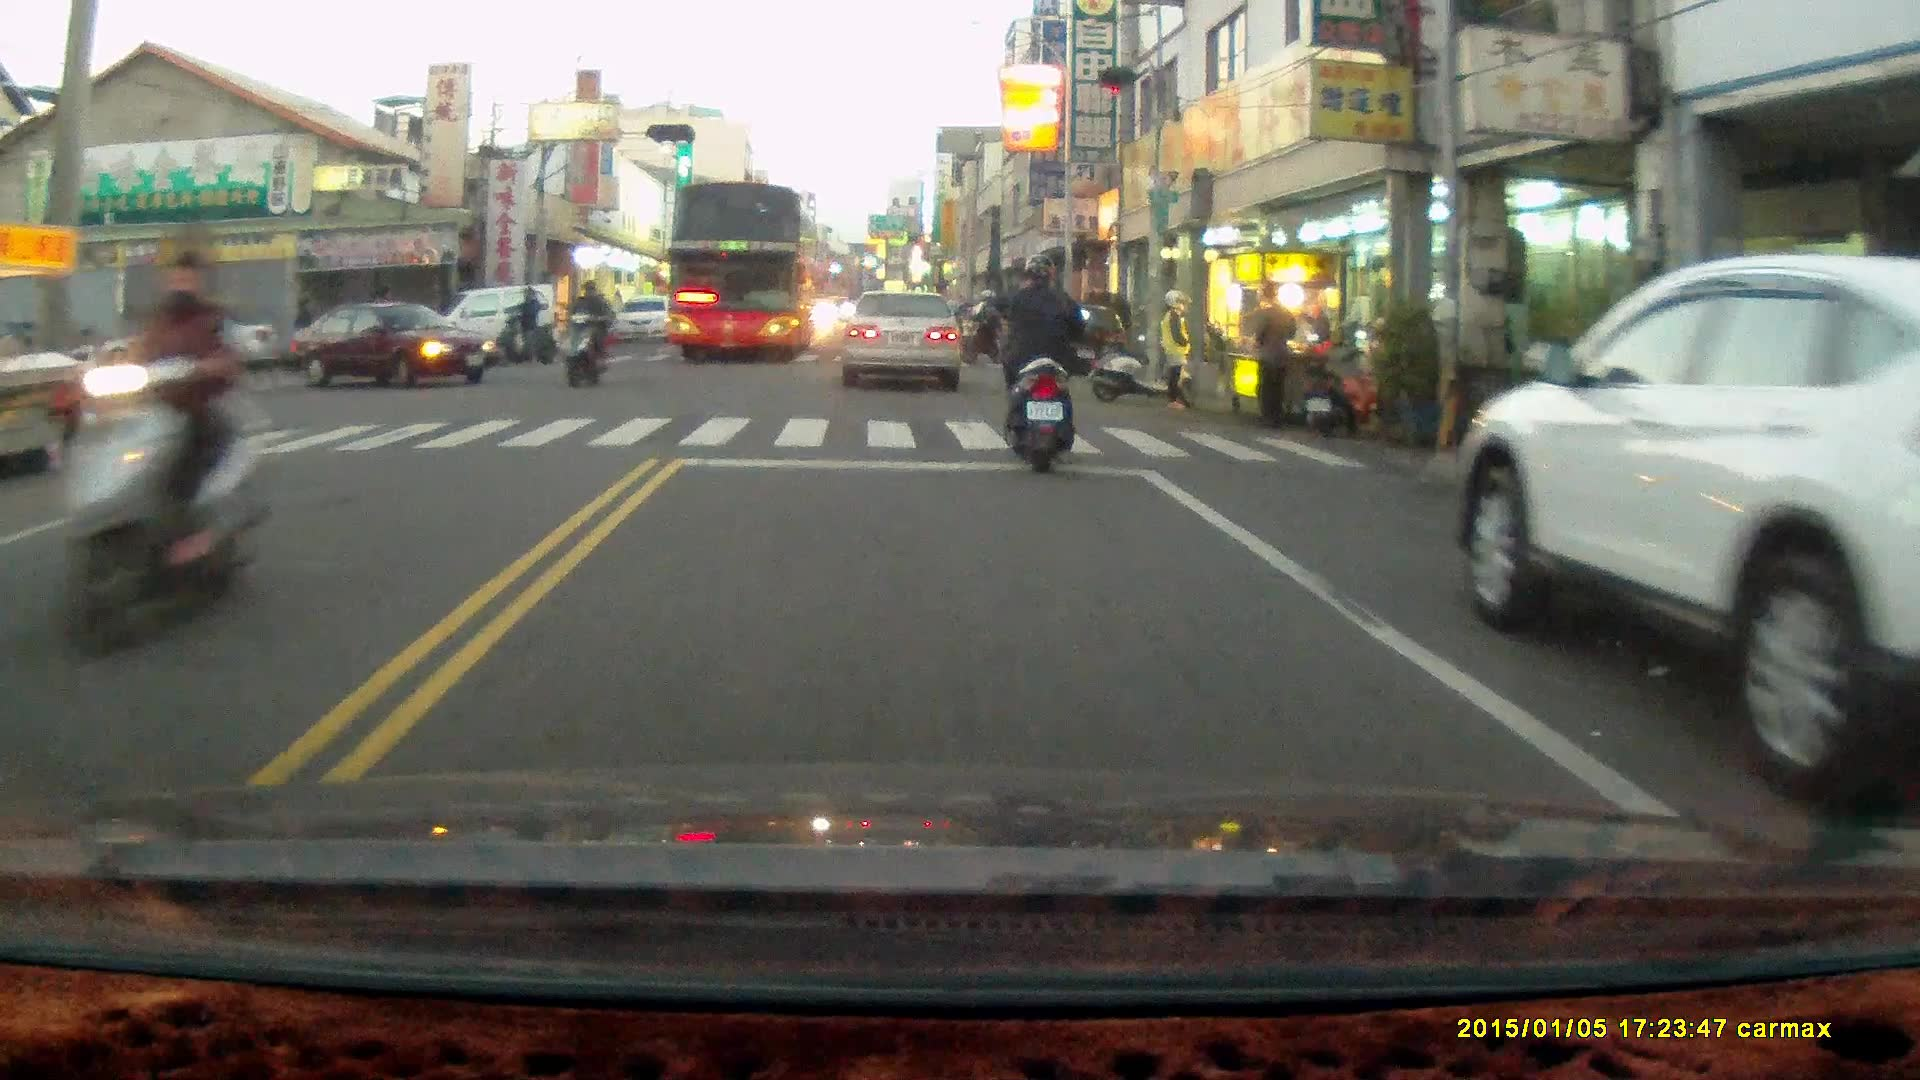pedestrian: (1250, 279, 1295, 431), (1155, 283, 1193, 410), (289, 292, 315, 369)
rider: (71, 211, 274, 661), (990, 249, 1092, 470), (561, 278, 611, 390), (491, 283, 554, 363), (959, 287, 1012, 367)
vehicle: (1448, 251, 1920, 802), (664, 185, 817, 371), (293, 300, 493, 389), (841, 288, 966, 395), (426, 282, 570, 374), (89, 311, 267, 384), (1036, 302, 1133, 376), (611, 293, 684, 345)
